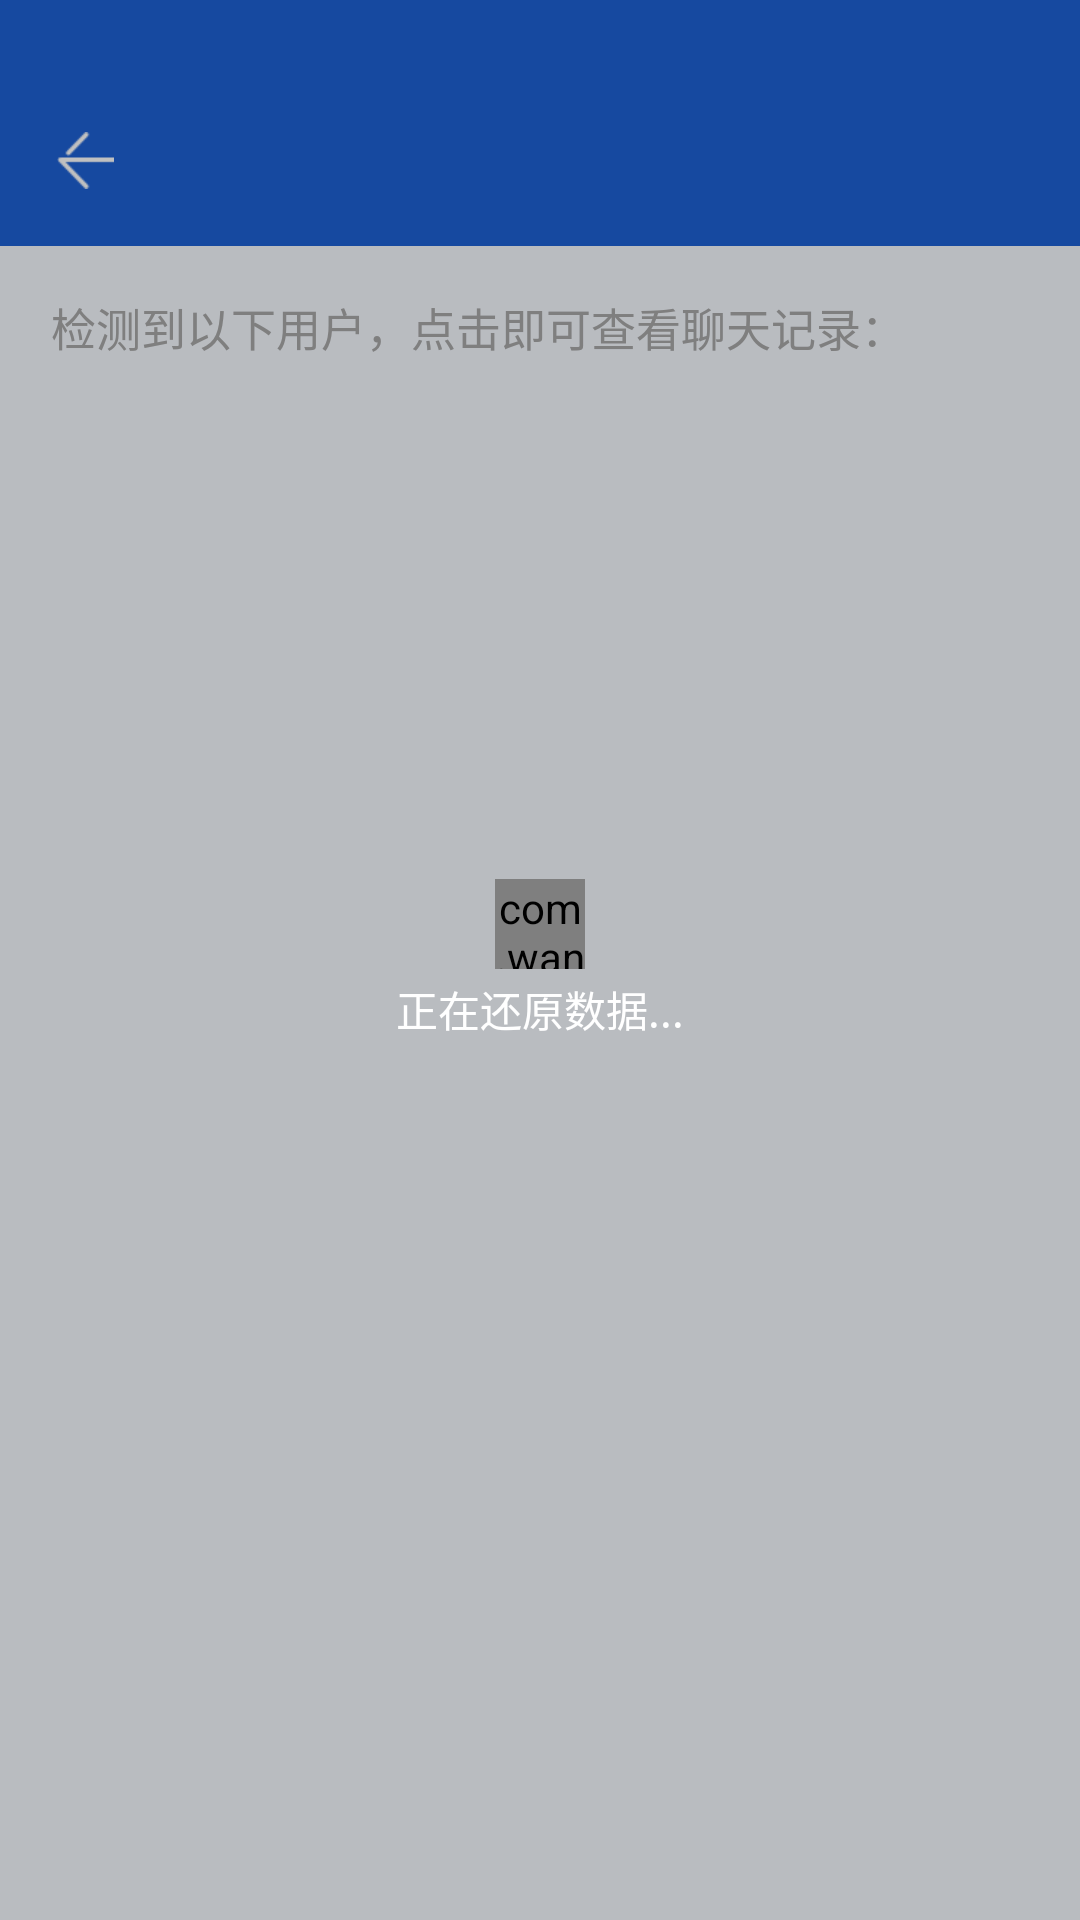

Icons on this 1080x1920 Android screen, each with the point to tap as (x=x, y=y):
back: (x=85, y=160)
